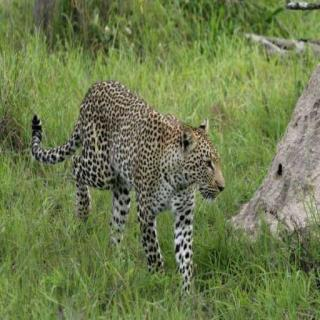Leopard: (49, 66, 249, 286)
